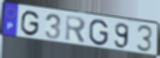3: (136, 24, 154, 54), (44, 13, 62, 40)
9: (114, 23, 131, 50)
G: (88, 19, 109, 47), (20, 10, 41, 38)
R: (64, 14, 87, 45)
